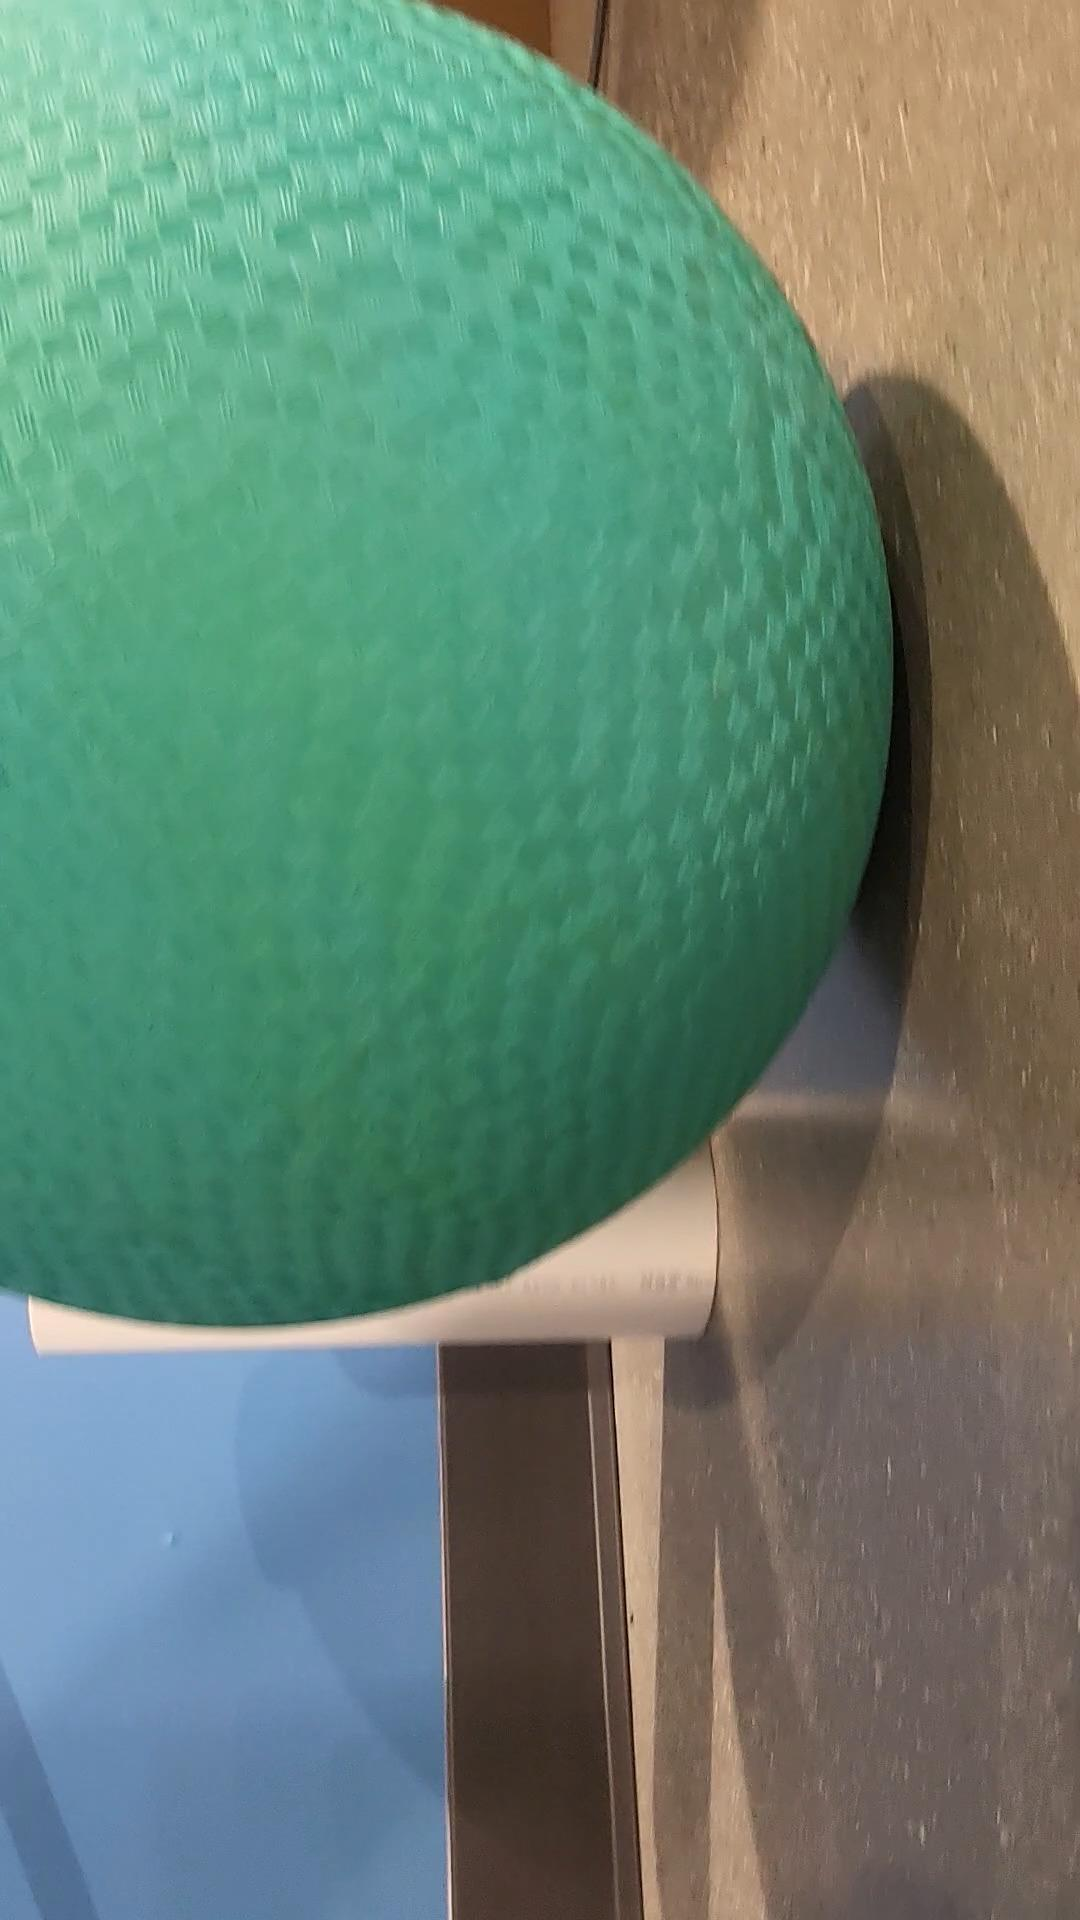algae: (0, 0, 890, 1331)
coral: (25, 1142, 732, 1342)
